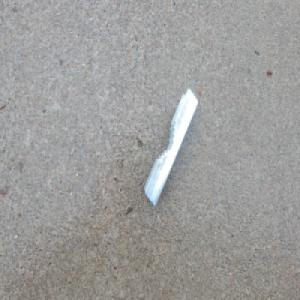ClampPart: (143, 86, 199, 207)
